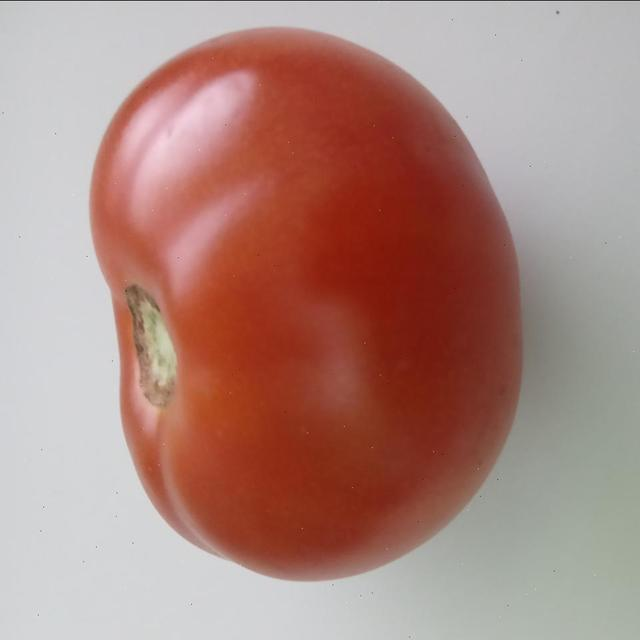Healthy Fruit: (52, 15, 351, 394)
